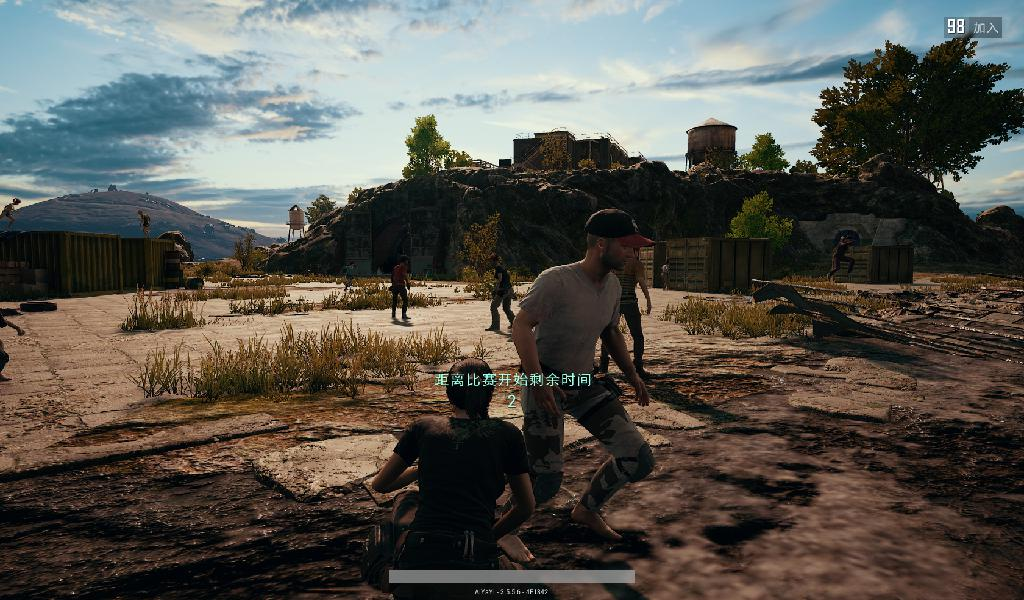Target Person: (511, 207, 648, 559), (372, 355, 538, 598), (584, 225, 652, 383), (481, 248, 517, 334), (821, 229, 860, 284), (388, 251, 410, 328), (1, 196, 20, 237), (136, 206, 154, 245)
